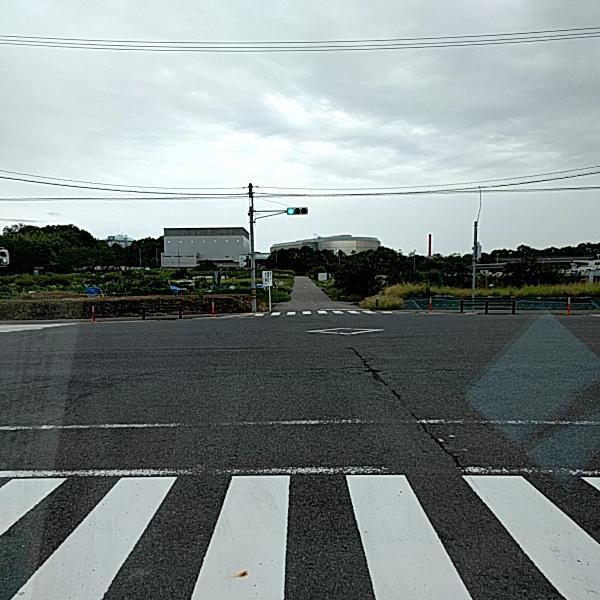D00: (346, 343, 464, 465)
